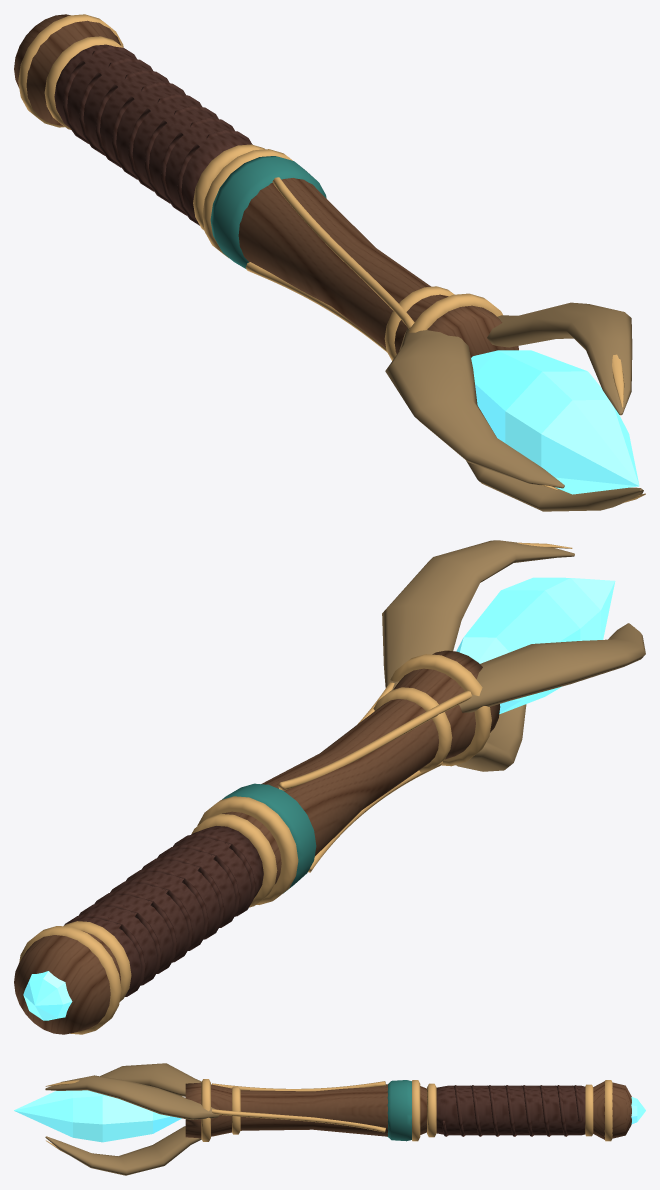
File: vesper-quill.glb
3 renders of one model, top to bottom at view 1: azimuth 30°, elevation 25°; view 2: azimuth 150°, elevation 25°; view 3: azimuth 270°, elevation 25°, orthographic. The views are drawn at different scales.
Visible parts, largest first — view 1: Vesper quill; view 2: Vesper quill; view 3: Vesper quill.
Boxes of the visible parts, x1,y1,x2,y2 form: Vesper quill: [14, 14, 645, 511]; Vesper quill: [14, 540, 645, 1034]; Vesper quill: [14, 1063, 645, 1175].
Size of the model in its own units: 0.1383 by 0.1123 by 0.655.
6 materials, 2 textured.
